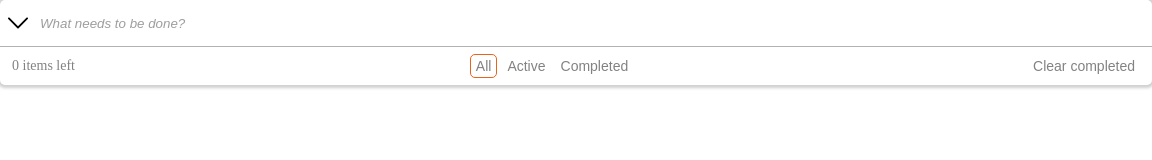
Test: добавление задания › кнопка добавления задания появляется при вводе текста, и новое задание добавляется при нажатии на кнопку. Инпут очищается
Expected: the text "add" is not shown
Type "new_task_123" into the field with test id "input_test" at coordinates (591, 23), box [38,13,1144,33]
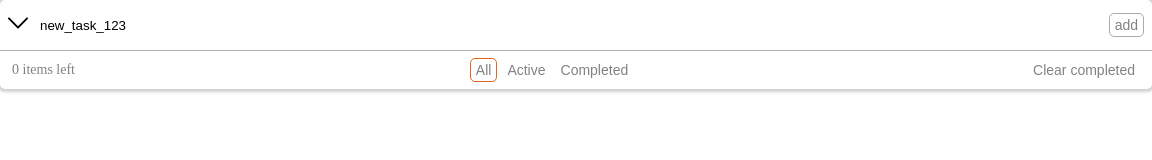
Expected: the button "add" is shown
Click the button "add" at coordinates (1126, 25), box [1109,13,1144,37]
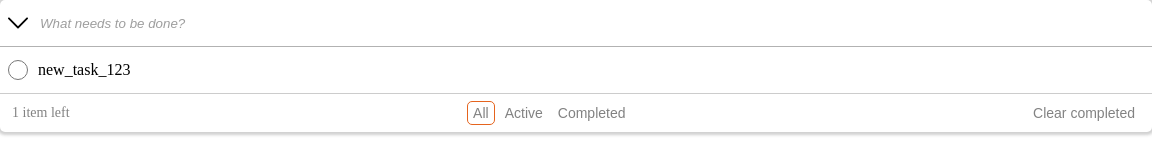
Expected: the text "new_task_123" is shown, [38,62,130,78]
Expected: the number of list items with test id "li_test" is 1, [0,47,1151,94]
Expected: the field with test id "input_test" is empty, [38,13,1144,33]
